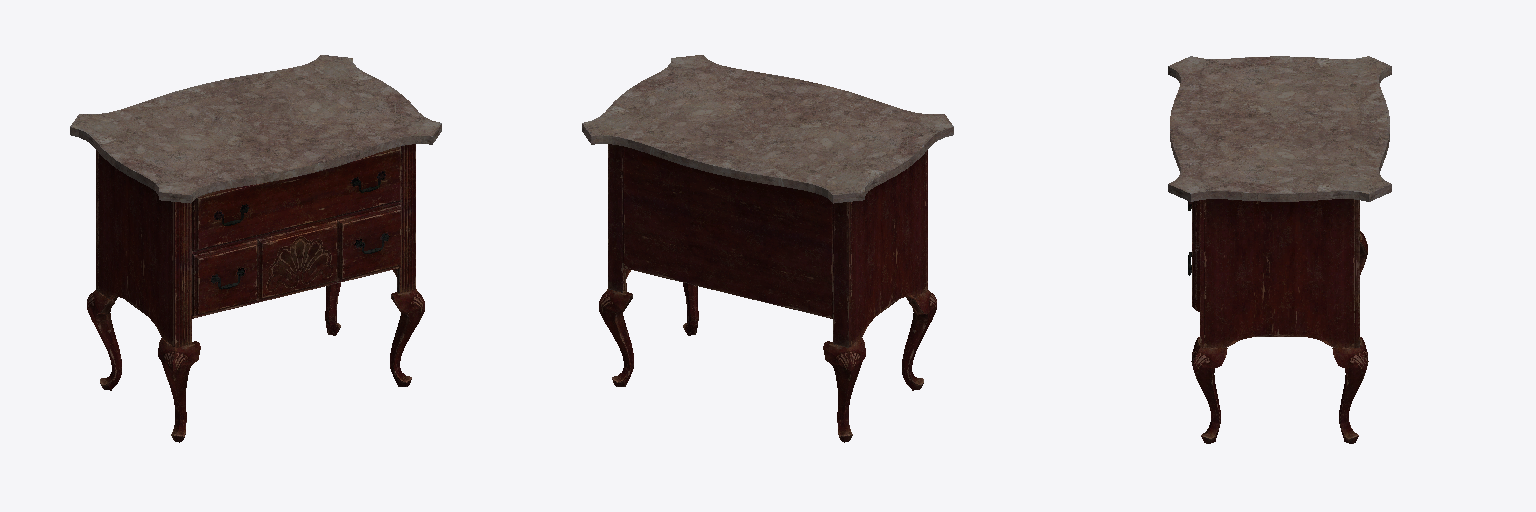
3 renders of one model, left to right at view 1: azimuth 30°, elevation 25°; view 2: azimuth 150°, elevation 25°; view 3: azimuth 270°, elevation 25°, orthographic.
Visible parts, largest first — view 1: Asylum_Table01_1; view 2: Asylum_Table01_1; view 3: Asylum_Table01_1.
Boxes of the visible parts, <box> form: Asylum_Table01_1: <box>70,55,441,442</box>; Asylum_Table01_1: <box>582,55,953,442</box>; Asylum_Table01_1: <box>1168,56,1391,443</box>.
Size of the model in its own units: 75.56 by 66.8 by 51.78.
1 materials, 1 textured.